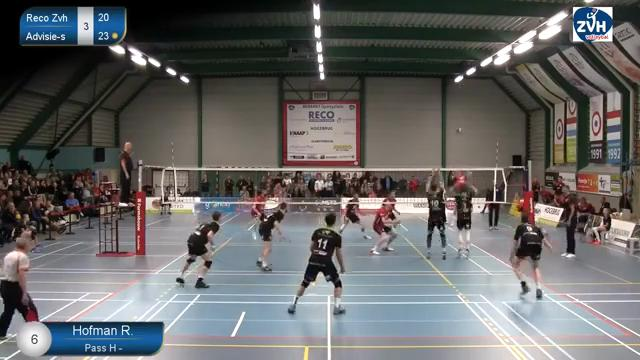muro: (415, 163, 449, 262), (446, 169, 476, 260)
